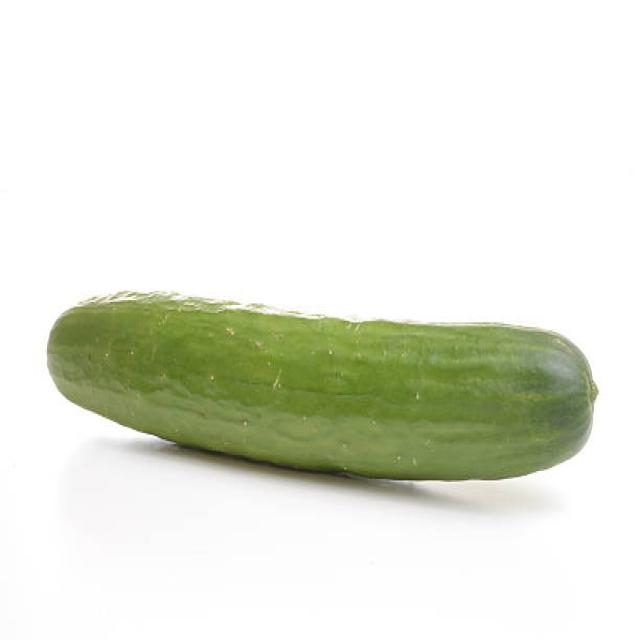cucumber: (47, 286, 595, 481)
